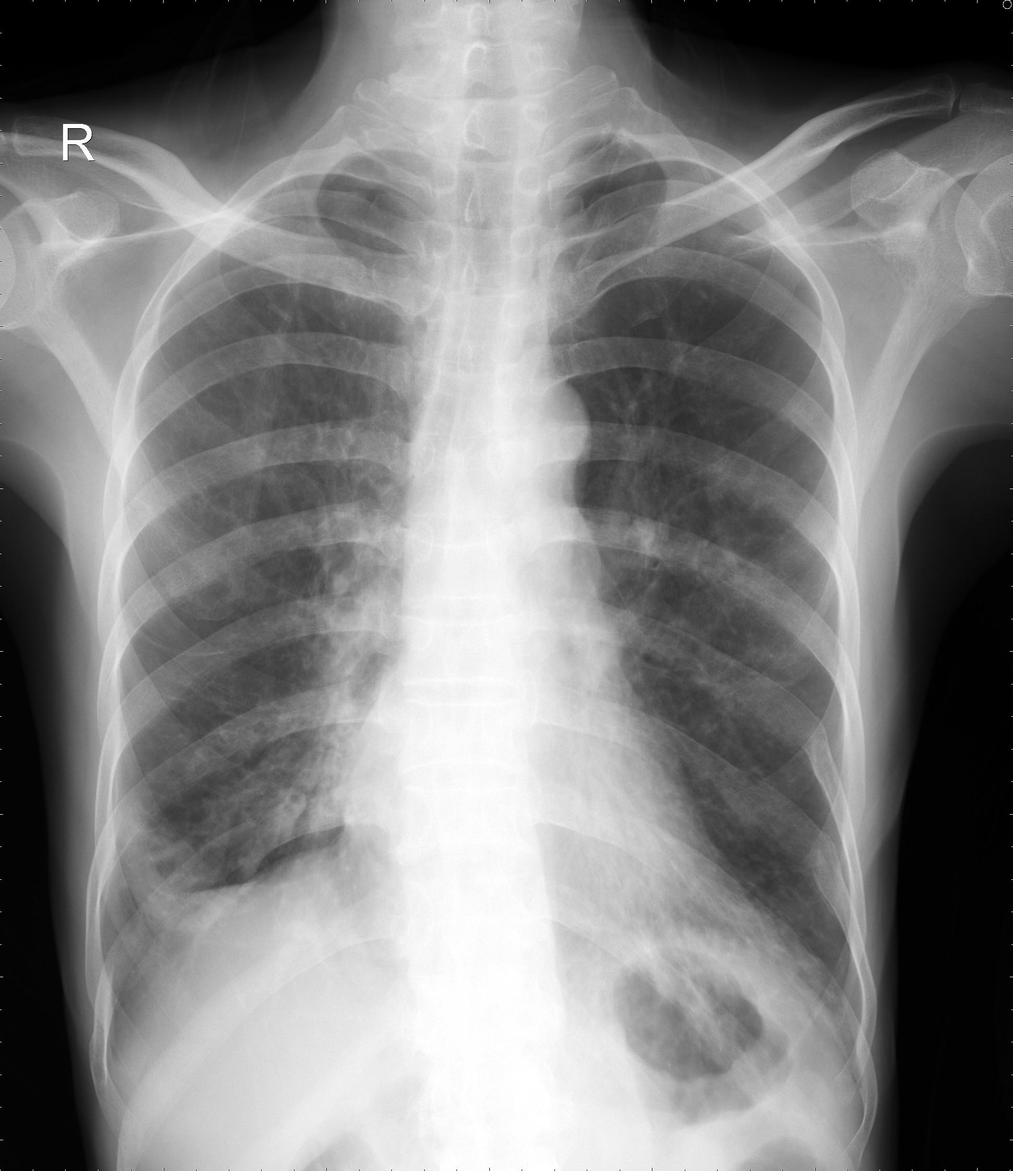Pleural thickening: (103, 777, 267, 1078)
Pulmonary fibrosis: (117, 818, 256, 938)
